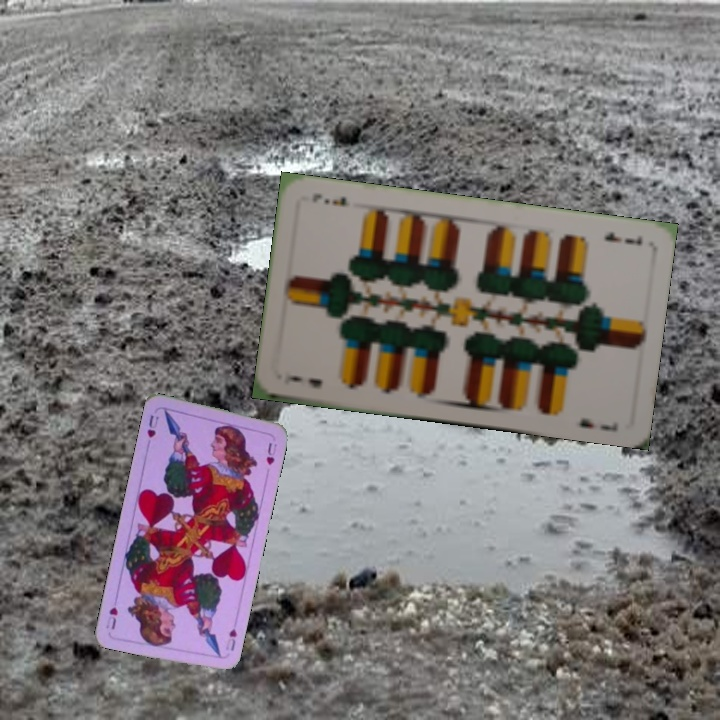E7: (600, 228, 645, 248), (280, 372, 325, 391)
HU: (143, 411, 161, 440), (225, 624, 239, 654)
